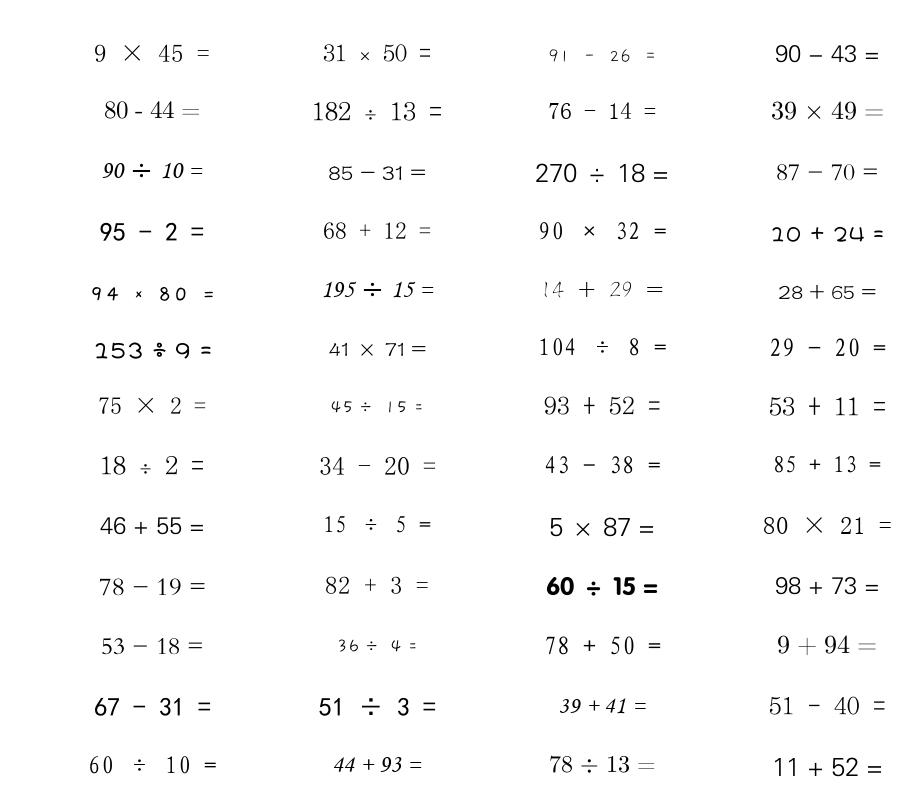MQ: (535, 163, 669, 183), (312, 101, 442, 121), (538, 222, 667, 240), (538, 338, 667, 356), (88, 756, 217, 774), (546, 576, 658, 596), (769, 338, 886, 357), (544, 396, 661, 415), (769, 397, 886, 416), (544, 636, 661, 655), (94, 697, 211, 716), (319, 697, 436, 716), (769, 696, 886, 715), (772, 757, 883, 777), (763, 517, 892, 534), (771, 101, 884, 120), (549, 517, 655, 537), (540, 281, 664, 298), (319, 457, 436, 475), (544, 456, 661, 474), (777, 635, 877, 656), (94, 44, 210, 62), (100, 455, 204, 475), (93, 342, 212, 359), (100, 516, 205, 535), (100, 222, 204, 241), (323, 44, 431, 62), (773, 455, 881, 473), (323, 515, 431, 533), (99, 578, 206, 596), (549, 755, 656, 773), (321, 281, 434, 298), (89, 286, 216, 301), (775, 45, 880, 63), (775, 577, 880, 595), (325, 576, 429, 594), (548, 102, 656, 119), (323, 222, 431, 239), (98, 397, 206, 414), (770, 226, 884, 242), (776, 164, 879, 181), (101, 638, 204, 655), (101, 162, 203, 179), (104, 101, 200, 119), (778, 284, 876, 300), (548, 49, 657, 63), (329, 342, 426, 357), (558, 698, 646, 714), (328, 166, 426, 180), (332, 757, 422, 772), (330, 401, 424, 414), (336, 639, 418, 653)
